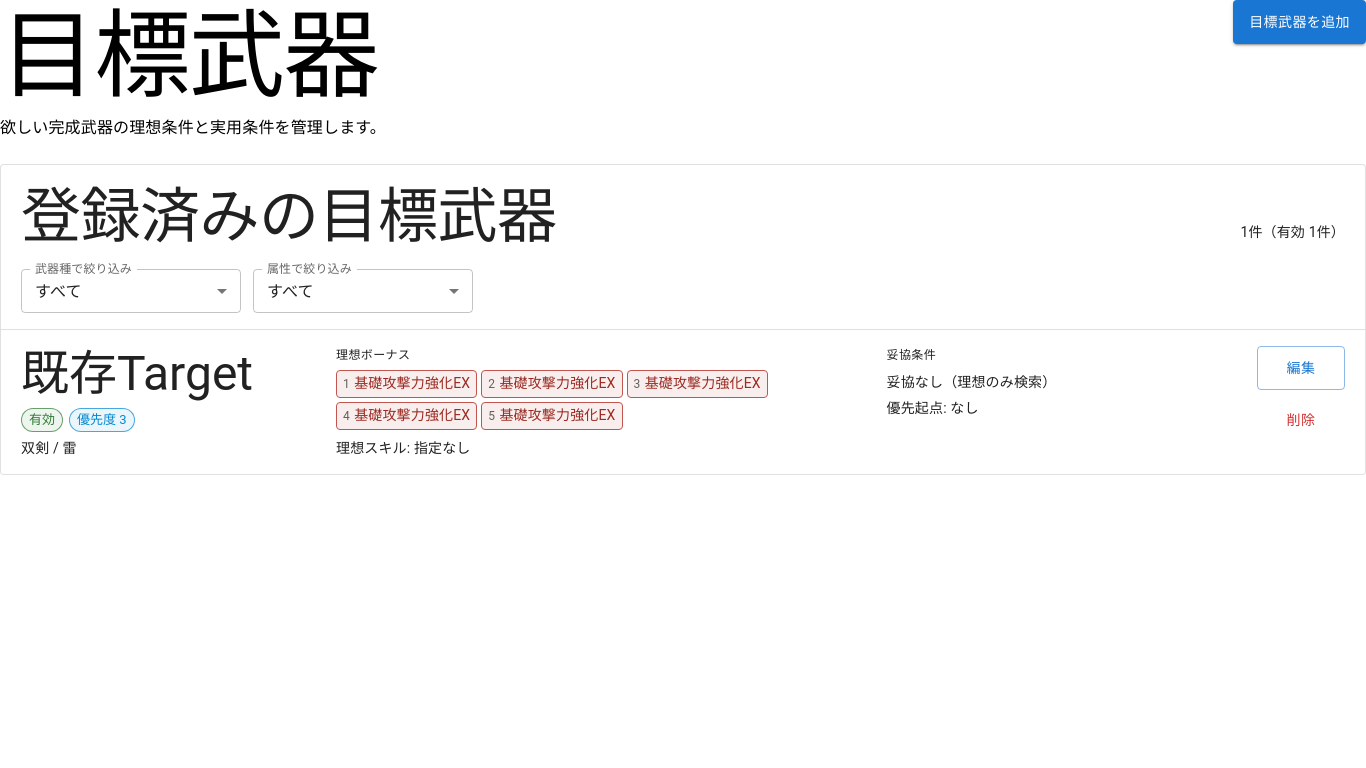
Test: TargetWeaponsPage › edits priority and keeps every dialog section reachable
Step 1. Click the button "編集" → x=1301, y=368, box [1257, 346, 1345, 390]
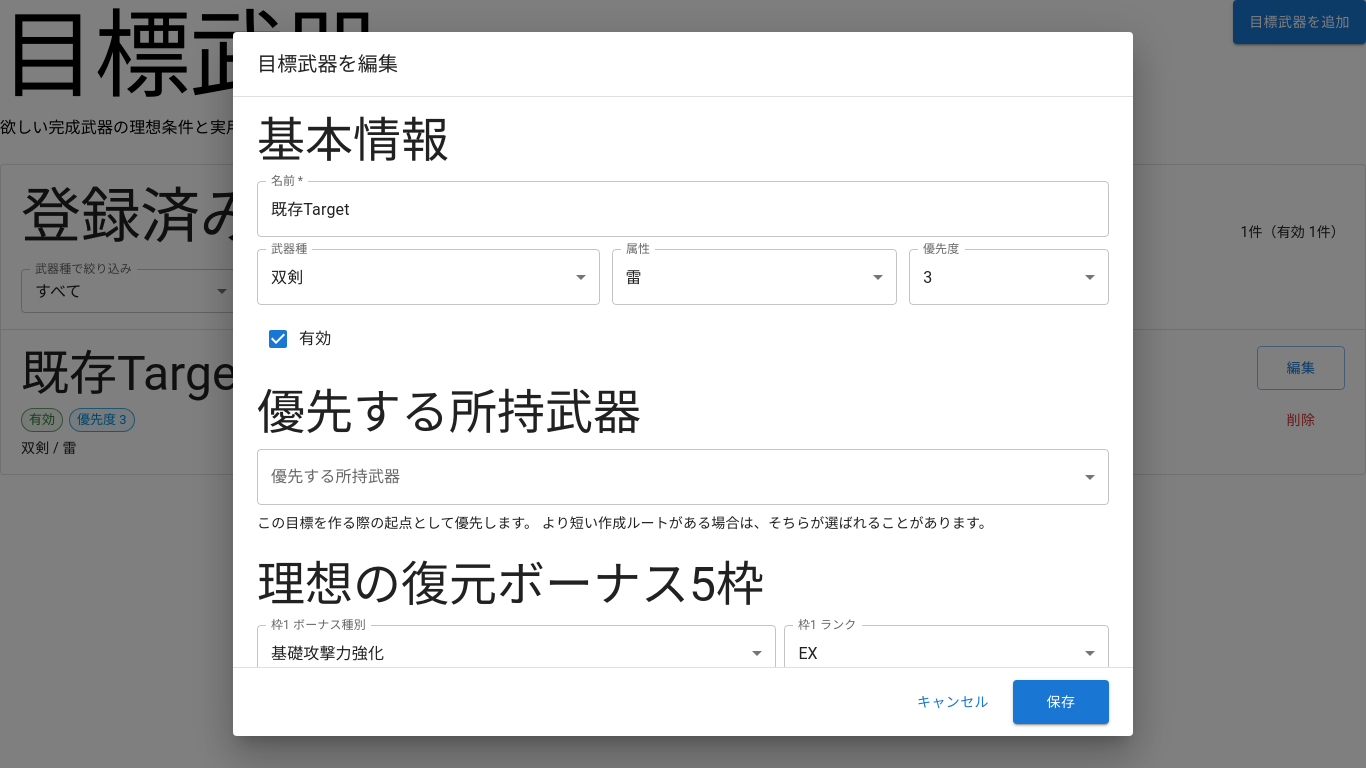
Result: the heading "基本情報" is shown at [257, 112, 449, 169]
Result: the heading "優先する所持武器" is shown at [257, 384, 641, 441]
Result: the heading "理想の復元ボーナス5枠" is shown at [257, 556, 764, 613]
Step 2. Click the dropdown named "優先度" → x=928, y=277, box [923, 268, 932, 286]
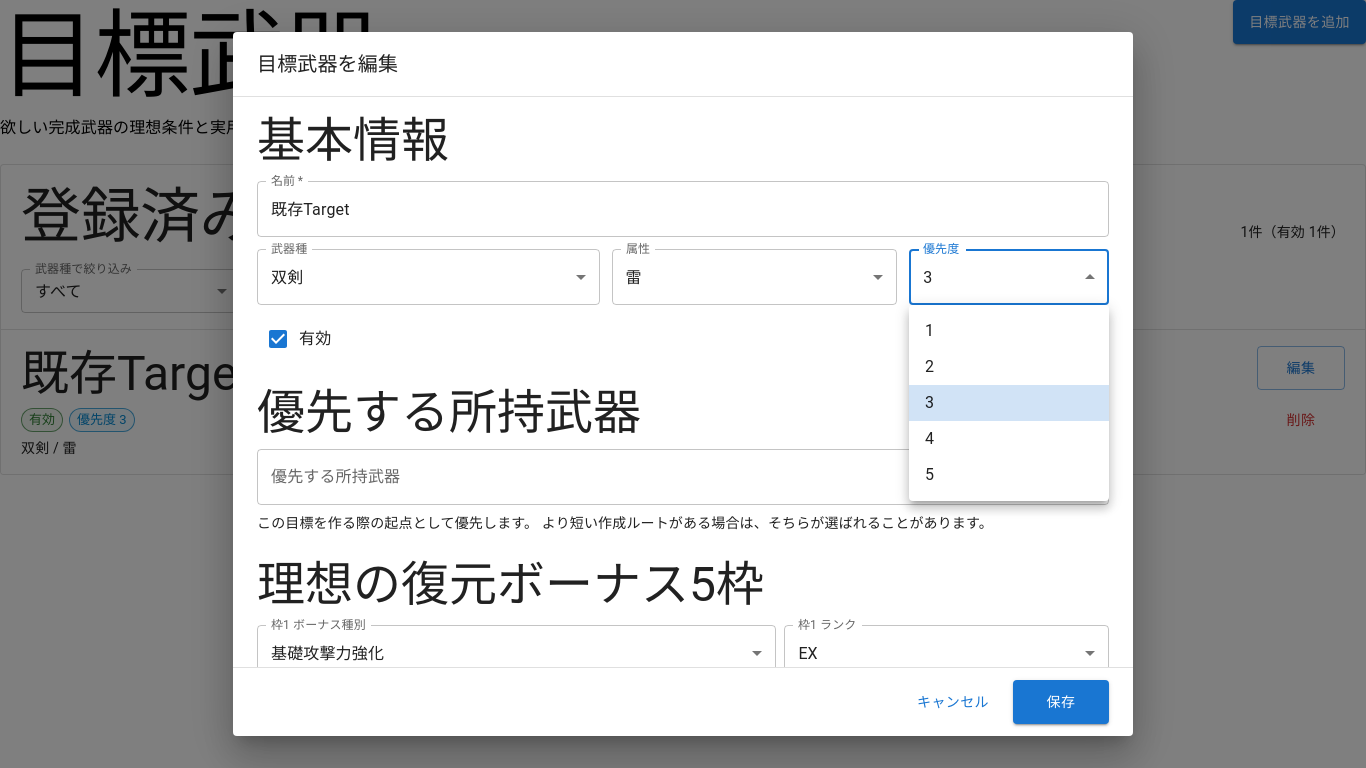
Step 3. Click the option "1" → x=930, y=330, box [925, 321, 934, 340]
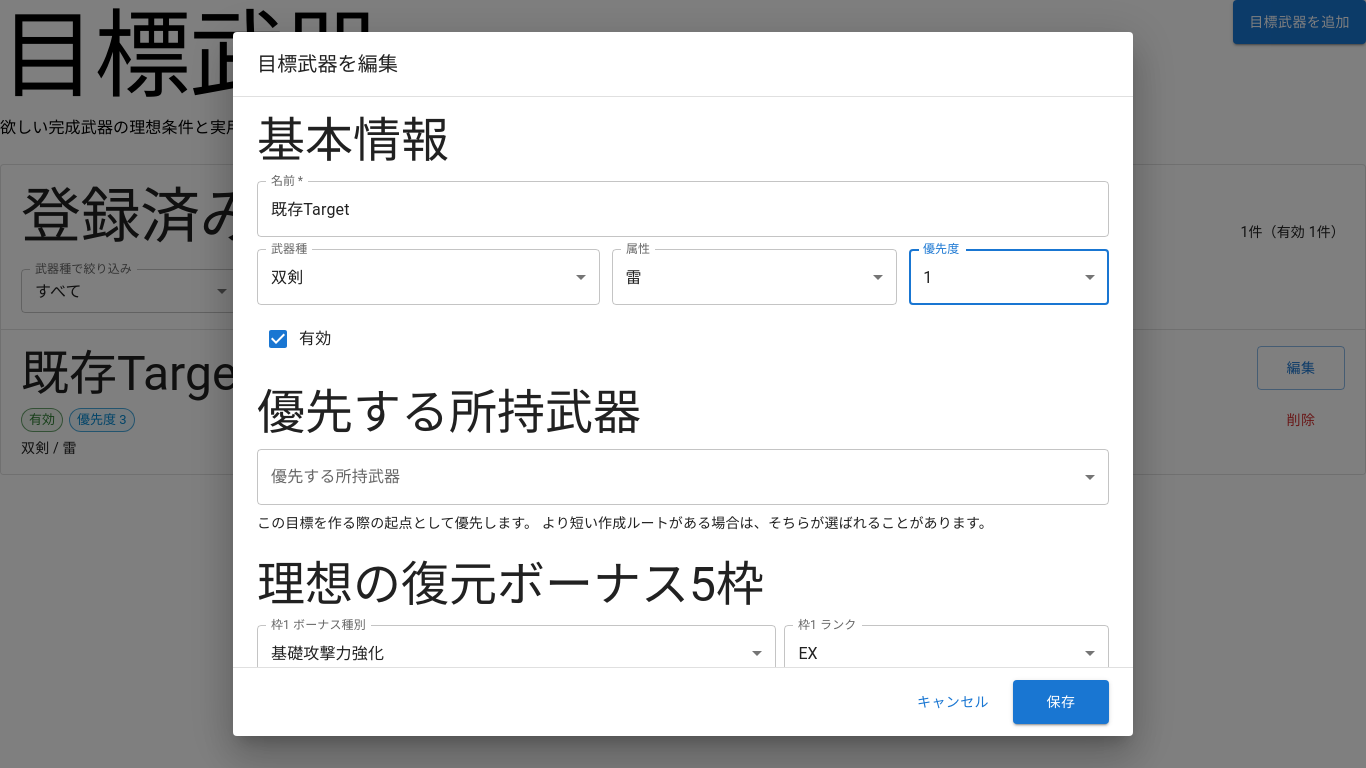
Step 4. Click the button "保存" → x=1061, y=702, box [1013, 680, 1109, 724]
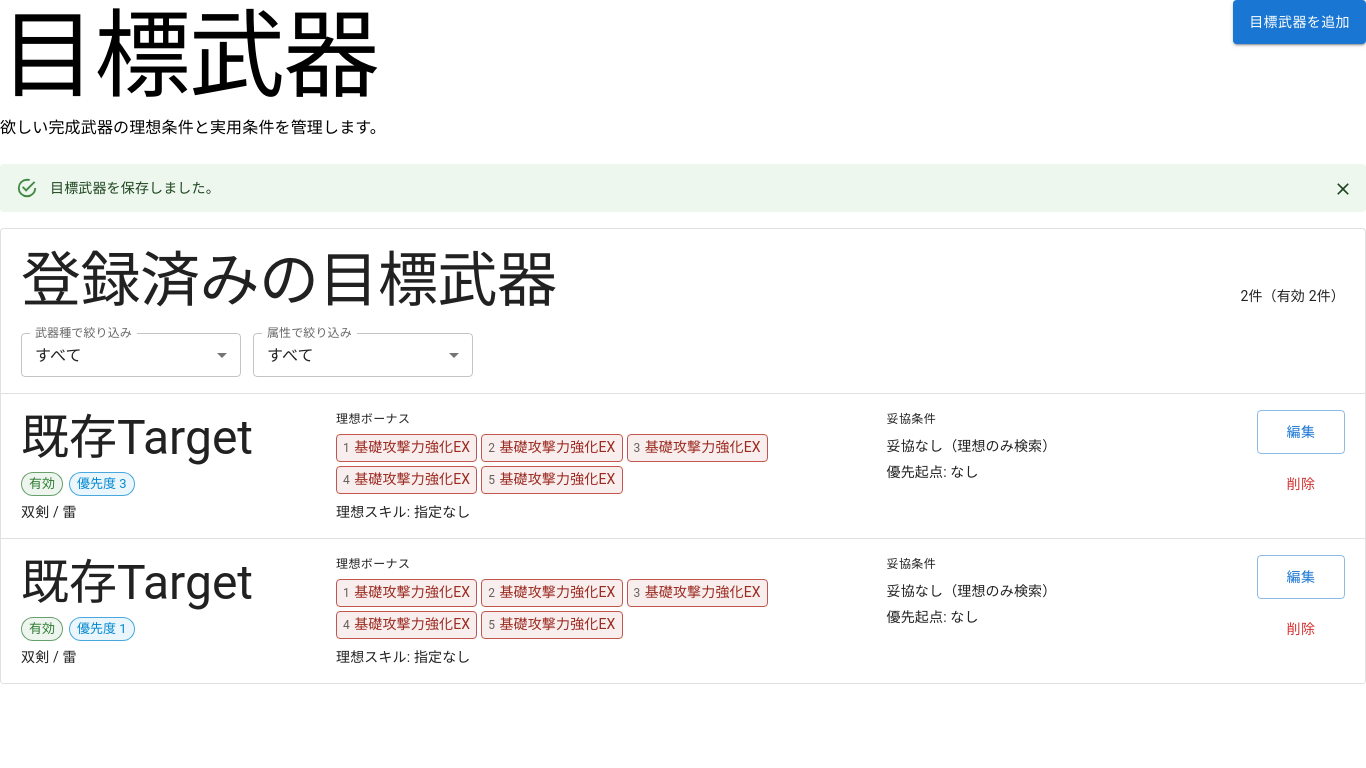
Result: the text "目標武器を保存しました。" is shown at [50, 180, 220, 196]
